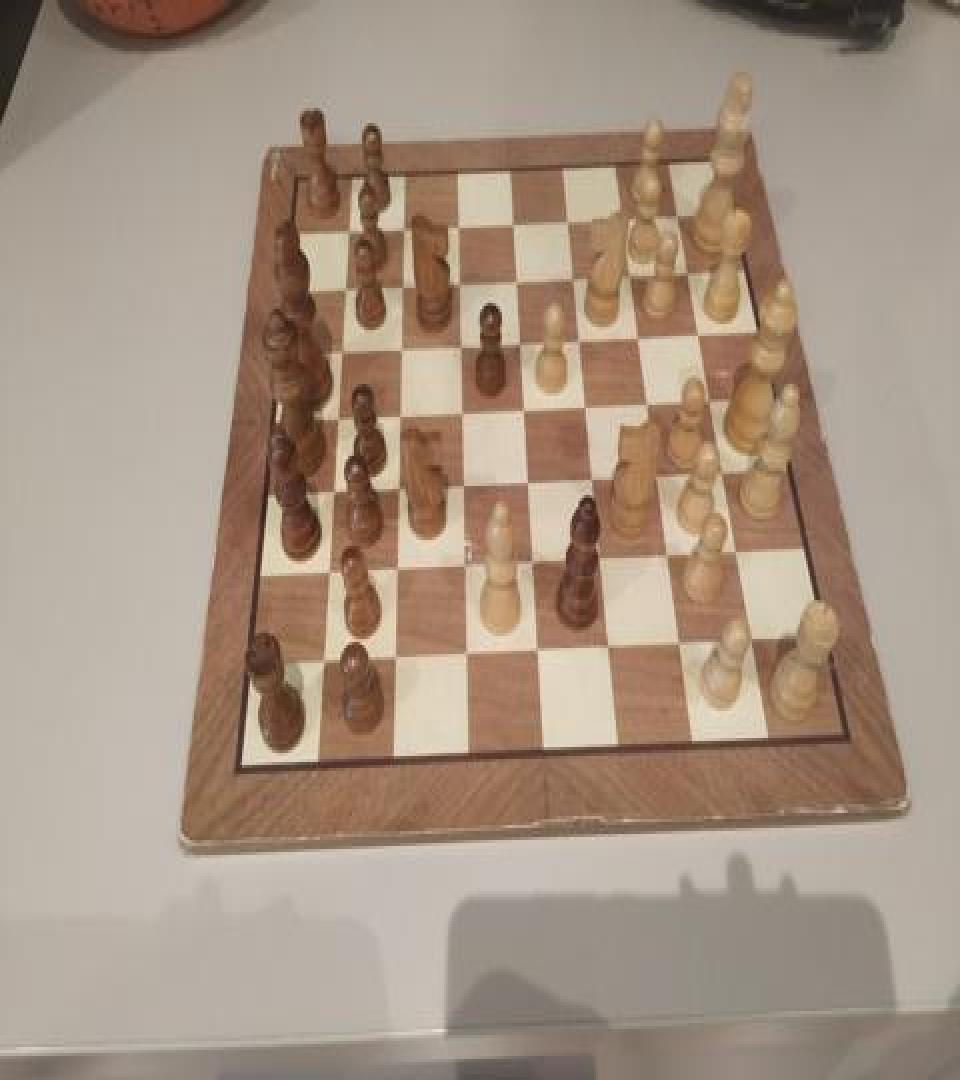xcorner: (387, 397, 407, 428), (383, 644, 403, 674), (455, 639, 475, 669), (527, 636, 547, 666), (599, 633, 619, 663), (671, 630, 691, 660), (743, 627, 763, 657), (315, 555, 335, 585), (384, 552, 404, 582), (453, 549, 473, 579), (522, 546, 542, 576), (726, 538, 746, 568), (320, 474, 340, 504), (386, 471, 406, 501), (451, 468, 471, 498), (517, 465, 537, 495), (582, 464, 602, 494), (647, 460, 667, 490), (712, 458, 732, 488), (325, 399, 345, 429), (450, 394, 470, 424), (512, 392, 532, 422), (574, 390, 594, 420), (636, 387, 656, 417), (698, 384, 718, 414), (329, 332, 349, 362), (389, 330, 409, 360), (448, 327, 468, 357), (508, 324, 528, 354), (567, 322, 587, 352), (627, 320, 647, 350), (686, 318, 706, 348), (332, 270, 352, 300), (390, 267, 410, 297), (447, 266, 467, 296), (504, 262, 524, 292), (561, 261, 581, 291), (618, 260, 638, 290), (675, 256, 695, 286), (336, 213, 356, 243), (391, 210, 411, 240), (446, 208, 466, 238), (501, 207, 521, 237), (555, 204, 575, 234), (610, 202, 630, 232), (664, 201, 684, 231), (310, 647, 330, 676), (590, 545, 610, 574), (658, 542, 678, 571)
